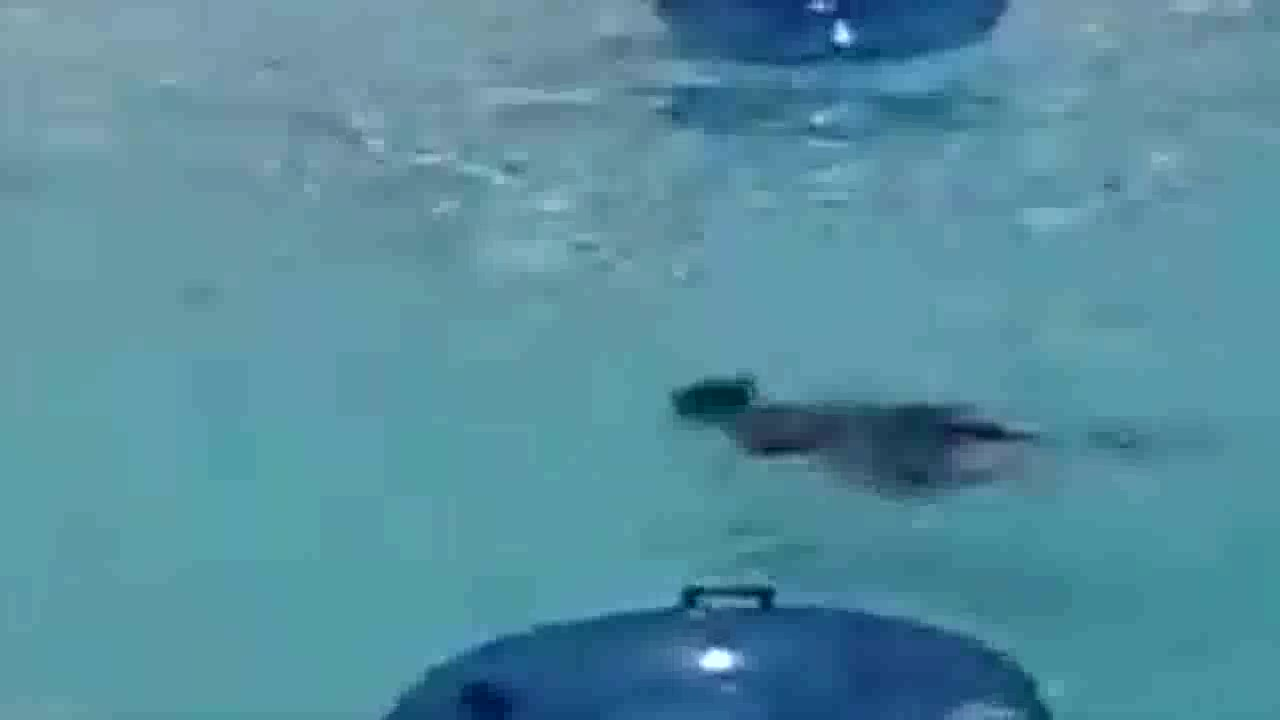Drowning: (662, 363, 1053, 514)
